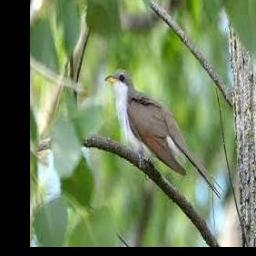Cuckoo: (104, 69, 223, 199)
